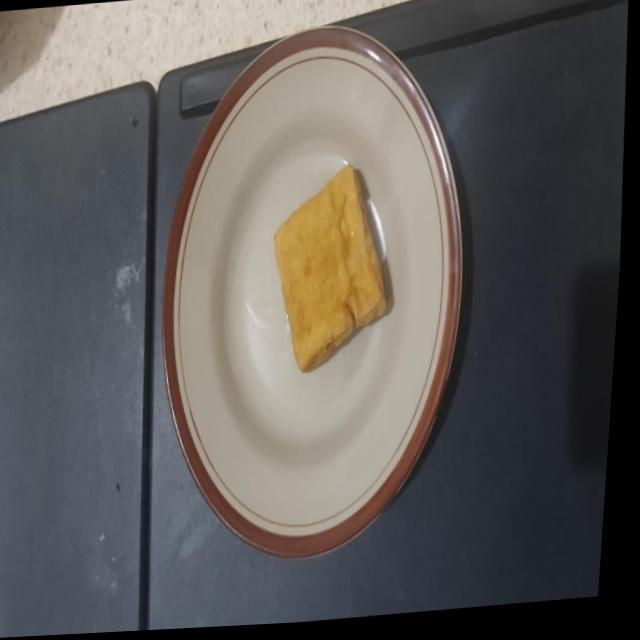tahu_goreng: (274, 164, 385, 371)
